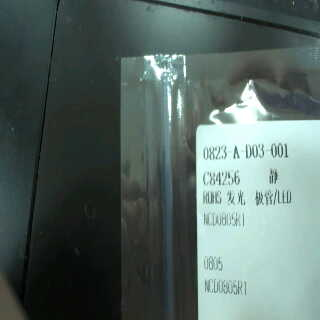LED: (227, 186, 307, 211)
